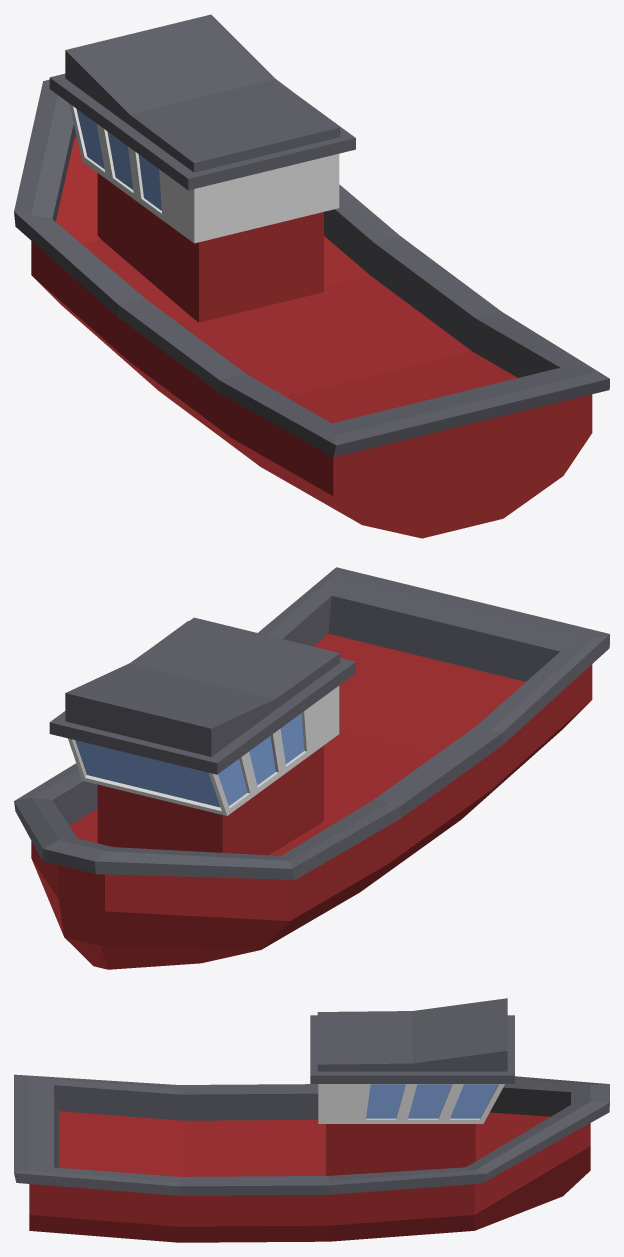
Rendered from Boat(NoMotor).fbx.
3 renders of one model, top to bottom at view 1: azimuth 30°, elevation 25°; view 2: azimuth 150°, elevation 25°; view 3: azimuth 270°, elevation 25°, orthographic. The views are drawn at different scales.
Parts seen in each view (by area): view 1: Cylinder.001; view 2: Cylinder.001; view 3: Cylinder.001.
Part boxes in pixels (<box>): Cylinder.001: <box>14,14,609,538</box>; Cylinder.001: <box>14,567,609,969</box>; Cylinder.001: <box>14,998,609,1242</box>.
Bounding box in the file's own units: 321 × 299 × 797.
